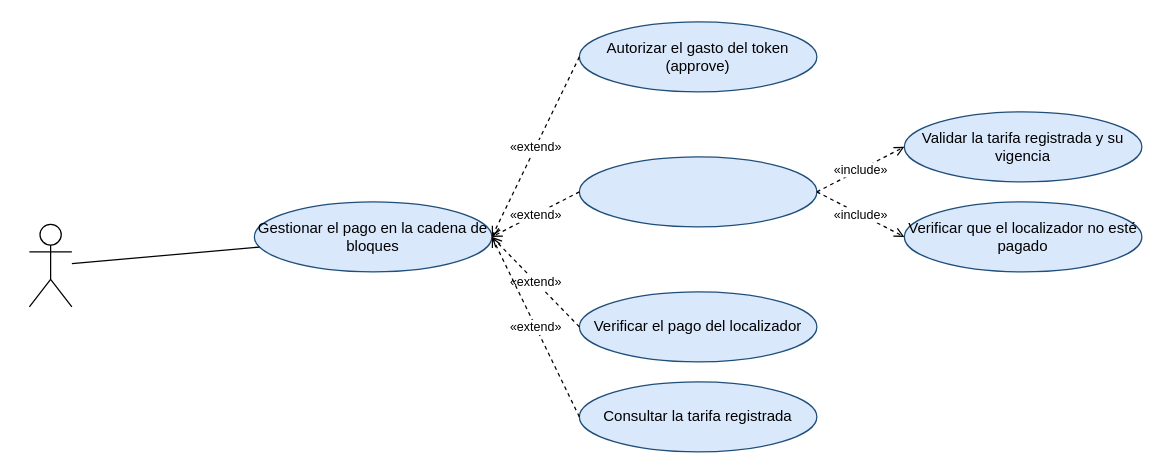
This 1165x474 diagram has some shape labels left out. Here are the shapes that lost their labels. From the top down, the centre of each, then its label:
point 697,191: Pagar el boleto
point 50,265: Pasajero
